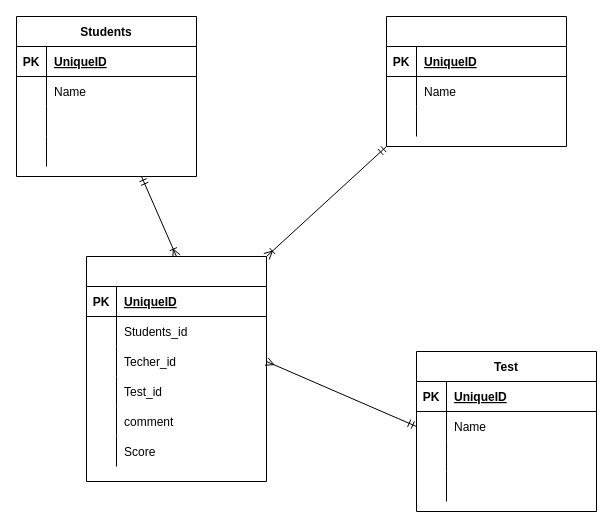
Some shapes in this 613 by 528 pixel diagram are drawn without their labels. Here are the shapes that lost their labels. From the top down, the box of each, then its label:
(386, 16, 566, 146): Techers
(86, 256, 266, 482): TestResults
